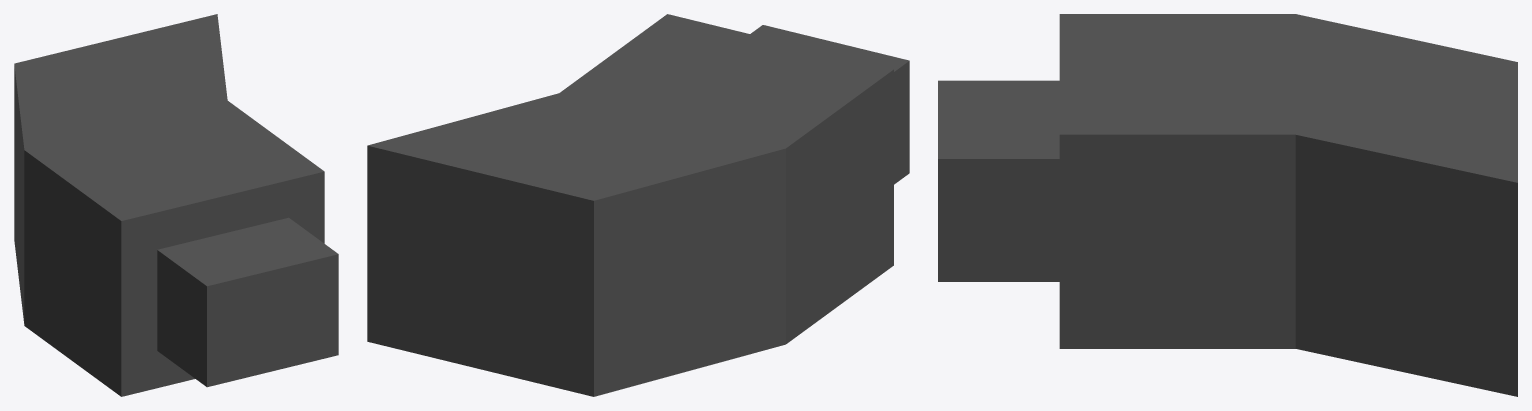
File: SMG6_02_4.fbx
The picture shows the model from 3 angles, left to right: view 1: azimuth 30°, elevation 25°; view 2: azimuth 150°, elevation 25°; view 3: azimuth 270°, elevation 25°; orthographic projection. The views are drawn at different scales.
Visible parts, largest first — view 1: SMG6_02_4; view 2: SMG6_02_4; view 3: SMG6_02_4.
Boxes of the visible parts, x1,y1,x2,y2 form: SMG6_02_4: (14, 14, 338, 396); SMG6_02_4: (367, 14, 909, 396); SMG6_02_4: (938, 14, 1517, 396).
Bounding box in the file's own units: 0.013 × 0.00767 × 0.0188.
